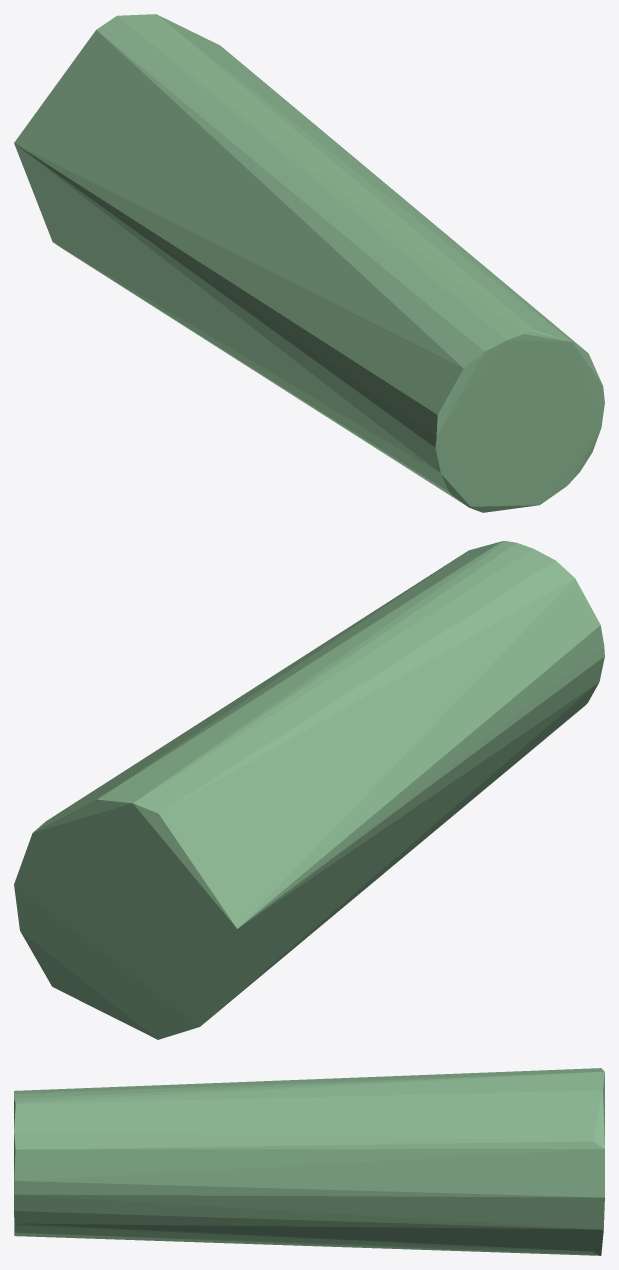
The model's file is humidifier_a01.glb.
The picture shows the model from 3 angles, top to bottom: view 1: azimuth 30°, elevation 25°; view 2: azimuth 150°, elevation 25°; view 3: azimuth 270°, elevation 25°; orthographic projection. The views are drawn at different scales.
Parts seen in each view (by area): view 1: geometry_0; view 2: geometry_0; view 3: geometry_0.
Boxes of the visible parts, x1,y1,x2,y2 form: geometry_0: [14, 14, 604, 512]; geometry_0: [14, 541, 604, 1039]; geometry_0: [14, 1068, 604, 1255].
Size of the model in its own units: 0.1561 by 0.1564 by 0.48.
